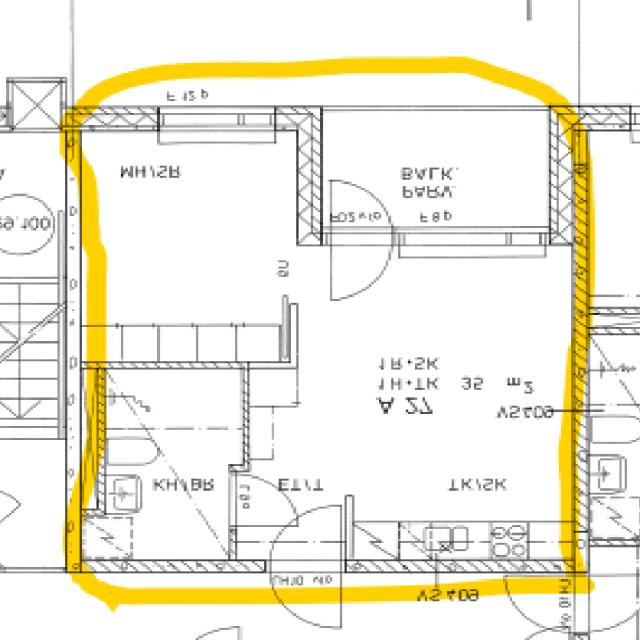door: (271, 503, 342, 574), (271, 562, 342, 633), (332, 177, 392, 246), (332, 228, 392, 296), (229, 476, 298, 527)
